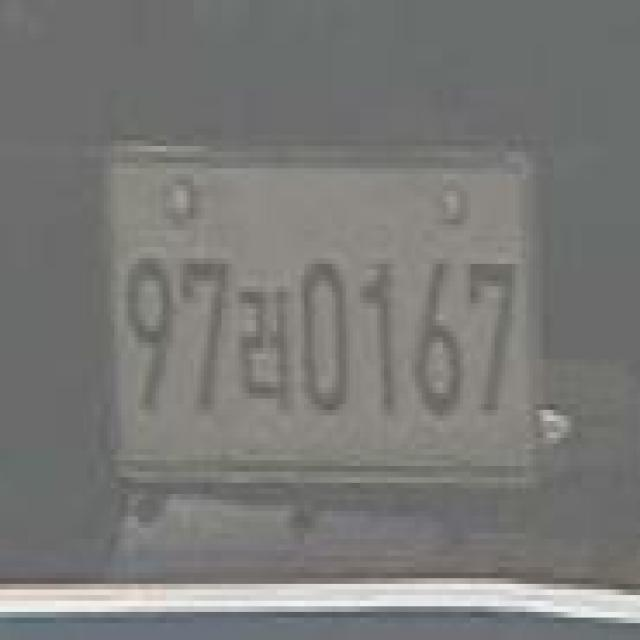0: (298, 248, 356, 418)
1: (359, 250, 406, 424)
6: (412, 252, 463, 432)
7: (466, 248, 524, 428), (180, 242, 230, 422)
9: (124, 246, 178, 424)
leo: (237, 272, 295, 426)
license_plate: (111, 154, 546, 488)
